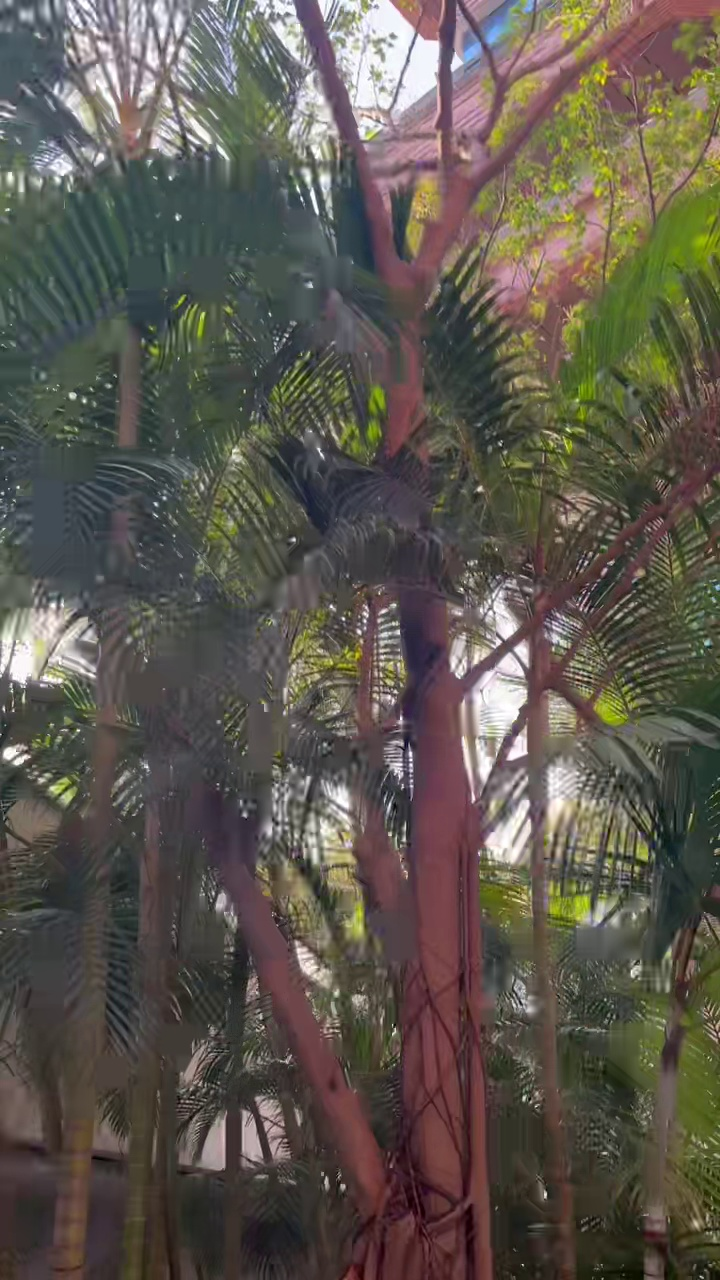Ficus benjamina: (225, 0, 631, 1279)
